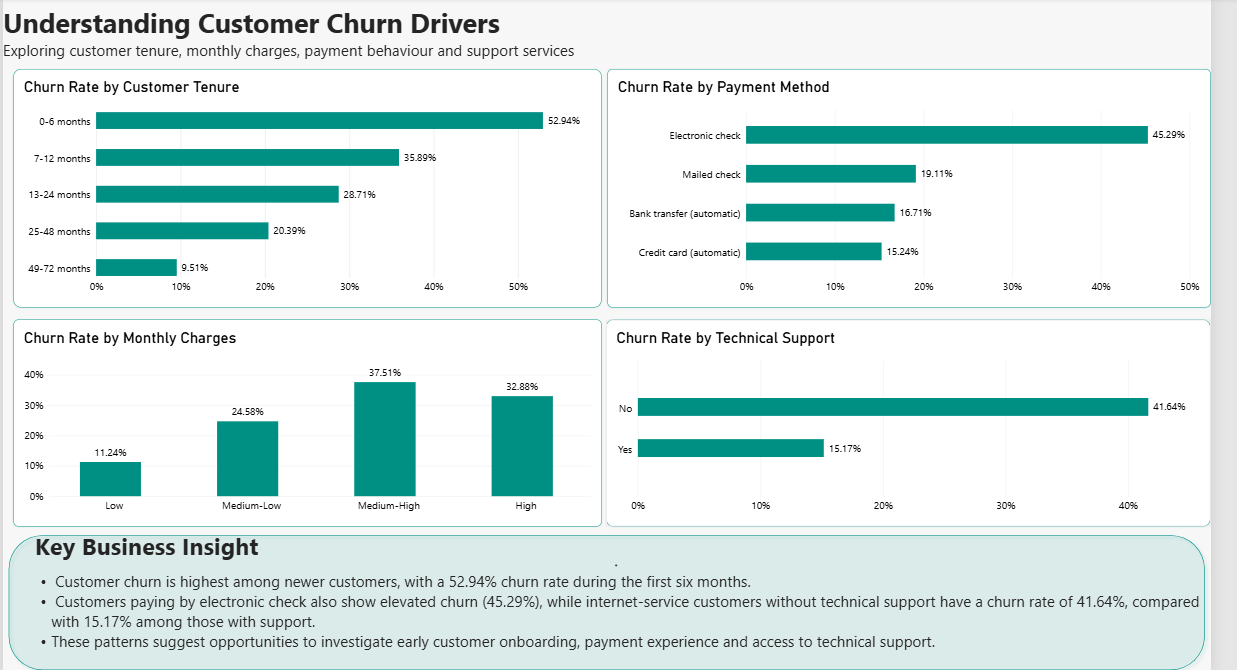

The dashboard page shown, as its layout file describes it:
{"tool":"powerbi","page":{"name":"Customer Churn Drivers","canvas":[1920,1080],"ordinal":1},"visuals":[{"type":"textbox","box":[0,11.9,1918.3,102.6],"z":0},{"type":"clusteredBarChart","title":"Churn Rate by Customer Tenure","fields":{"Category":["Customers.tenure_group"],"Y":["Customers.Churn Rate"]},"box":[16.7,114.5,935.3,379.4],"z":1000},{"type":"clusteredColumnChart","title":"Churn Rate by Monthly Charges","fields":{"Category":["Customers.charge_group"],"Y":["Customers.Churn Rate"]},"box":[16.7,513,935.3,329.3],"z":2000},{"type":"clusteredBarChart","title":"Churn Rate by Payment Method","fields":{"Category":["Customers.PaymentMethod"],"Y":["Customers.Churn Rate"]},"box":[961.5,114.5,959.1,379.4],"z":3000},{"type":"clusteredBarChart","title":"Churn Rate by Technical Support","fields":{"Category":["Customers.TechSupport"],"Y":["Customers.Churn Rate"]},"box":[959.1,513,961.5,329.3],"z":4000},{"type":"shape","box":[0,847.2,1920.6,232.8],"z":5000},{"type":"textbox","box":[100.2,355.5,300.6,45.3],"z":6000},{"type":"textbox","box":[40.6,966.3,300.6,114.5],"z":7000},{"type":"textbox","box":[100,100,300,300],"z":8000},{"type":"textbox","box":[100,100,300,300],"z":9000},{"type":"textbox","box":[40.6,847,1863.4,233.8],"z":11000}]}

Visuals, with their boxes on the page's 1920x1080 design canvas (x1, y1, x2, y2). These are canvas units, not pixel positions in the 1237x670 screenshot, which may show the page scaled, cropped or inside an application window:
textbox: select_region(0, 12, 1918, 114)
"Churn Rate by Customer Tenure" clusteredBarChart: select_region(17, 114, 952, 494)
"Churn Rate by Monthly Charges" clusteredColumnChart: select_region(17, 513, 952, 842)
"Churn Rate by Payment Method" clusteredBarChart: select_region(962, 114, 1921, 494)
"Churn Rate by Technical Support" clusteredBarChart: select_region(959, 513, 1921, 842)
shape: select_region(0, 847, 1921, 1080)
textbox: select_region(100, 356, 401, 401)
textbox: select_region(41, 966, 341, 1081)
textbox: select_region(100, 100, 400, 400)
textbox: select_region(100, 100, 400, 400)
textbox: select_region(41, 847, 1904, 1081)
